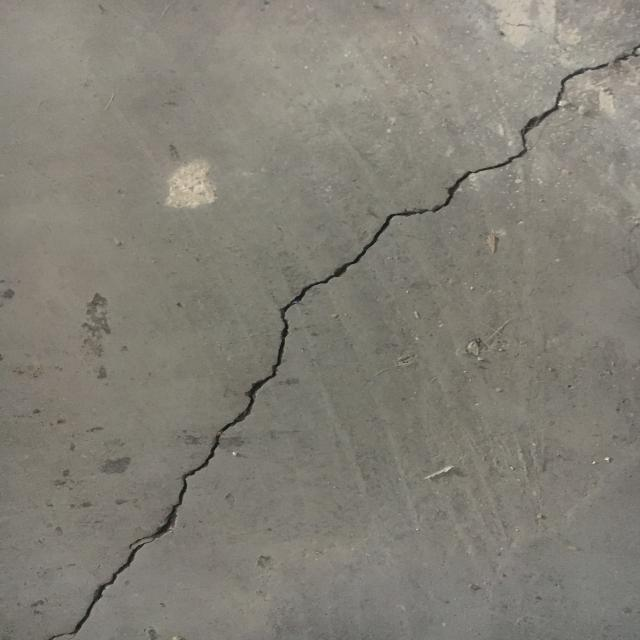SurfaceCrack: (6, 1, 640, 640)
